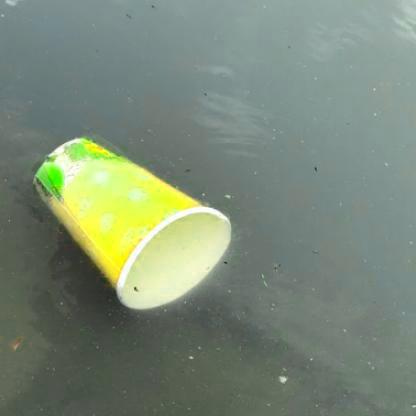Plastic: (32, 131, 236, 314)
